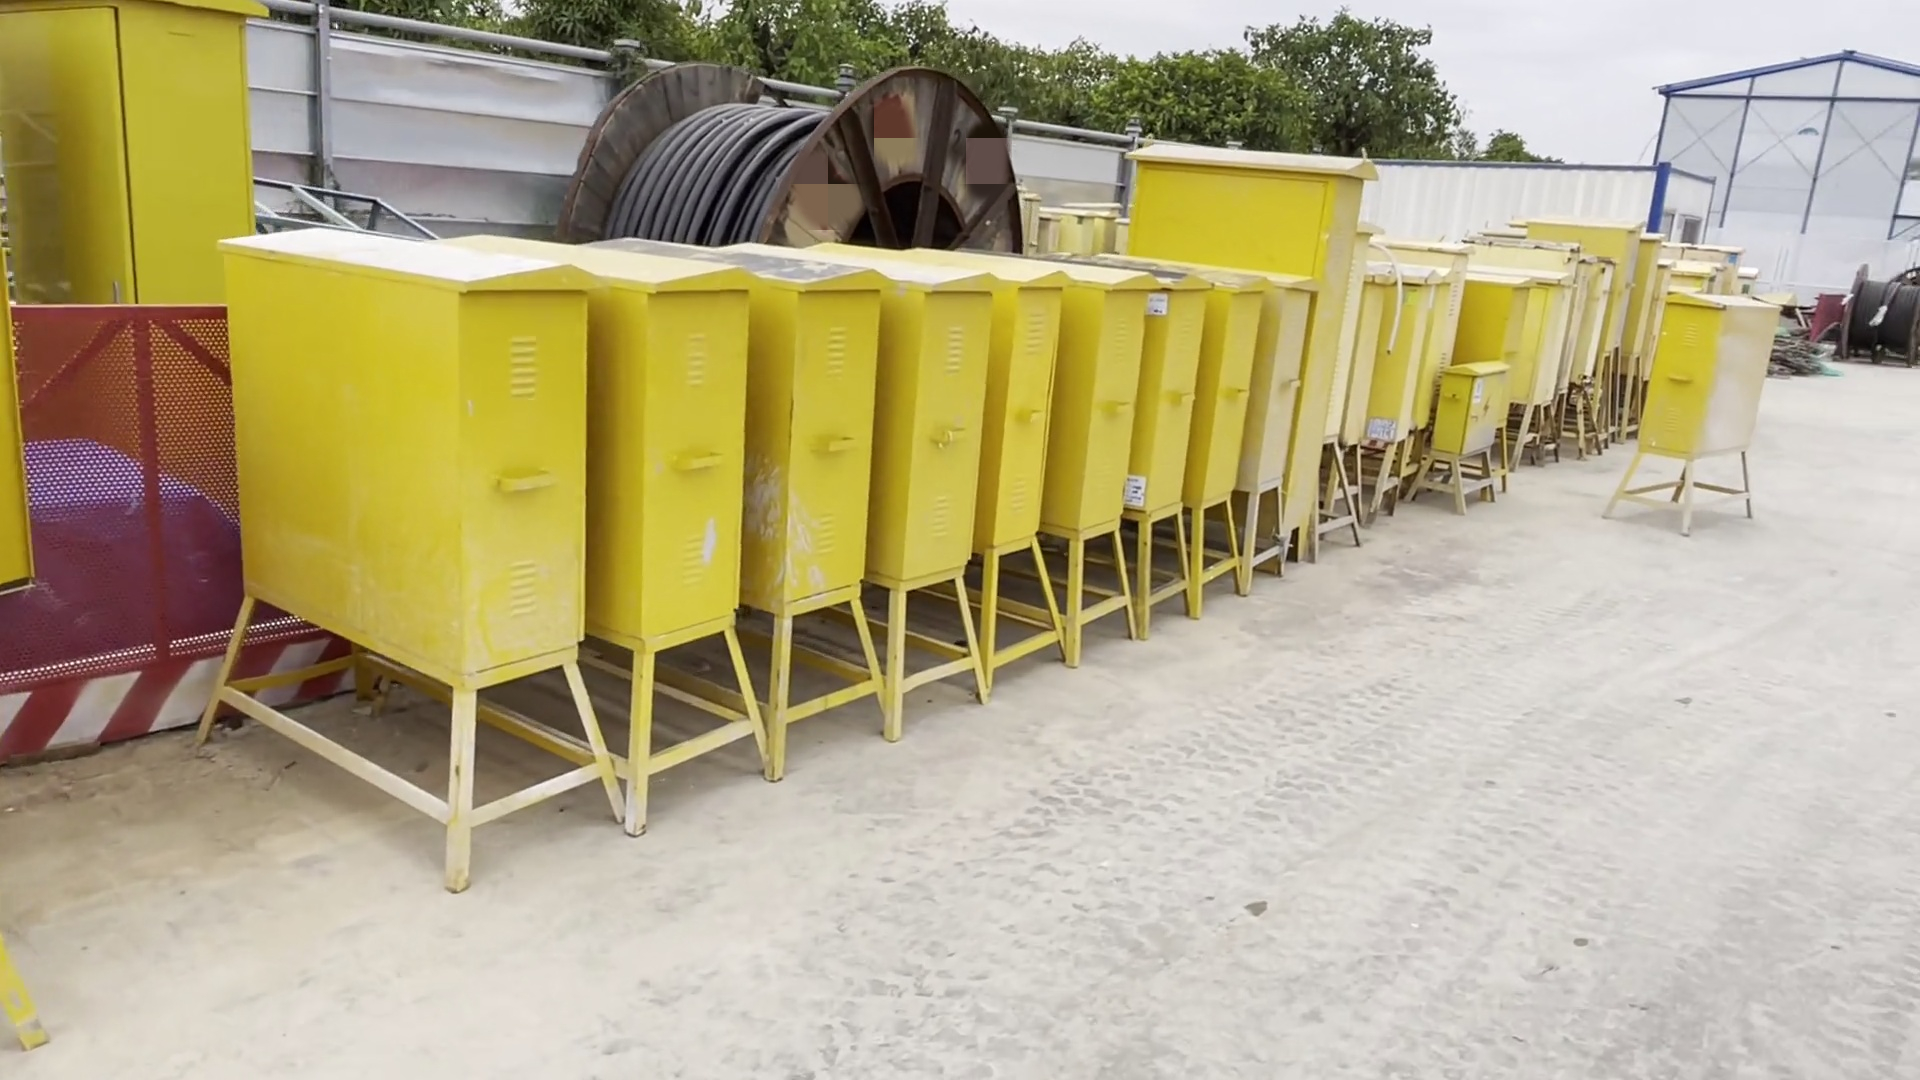ebox: (181, 215, 626, 860), (553, 207, 774, 804), (1109, 138, 1327, 549), (760, 223, 897, 749), (872, 229, 985, 723), (1610, 298, 1783, 541), (982, 252, 1069, 704), (1067, 255, 1146, 679), (1133, 247, 1197, 629), (1197, 265, 1253, 608), (1245, 278, 1300, 582), (1418, 359, 1503, 513)
